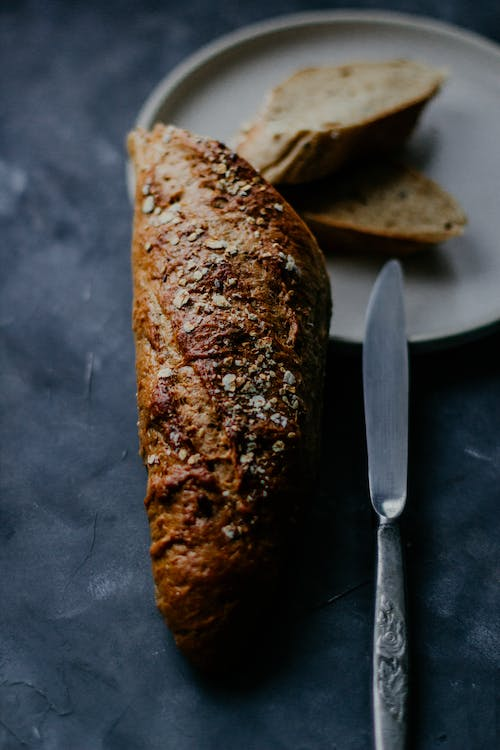knife: (359, 256, 413, 750)
